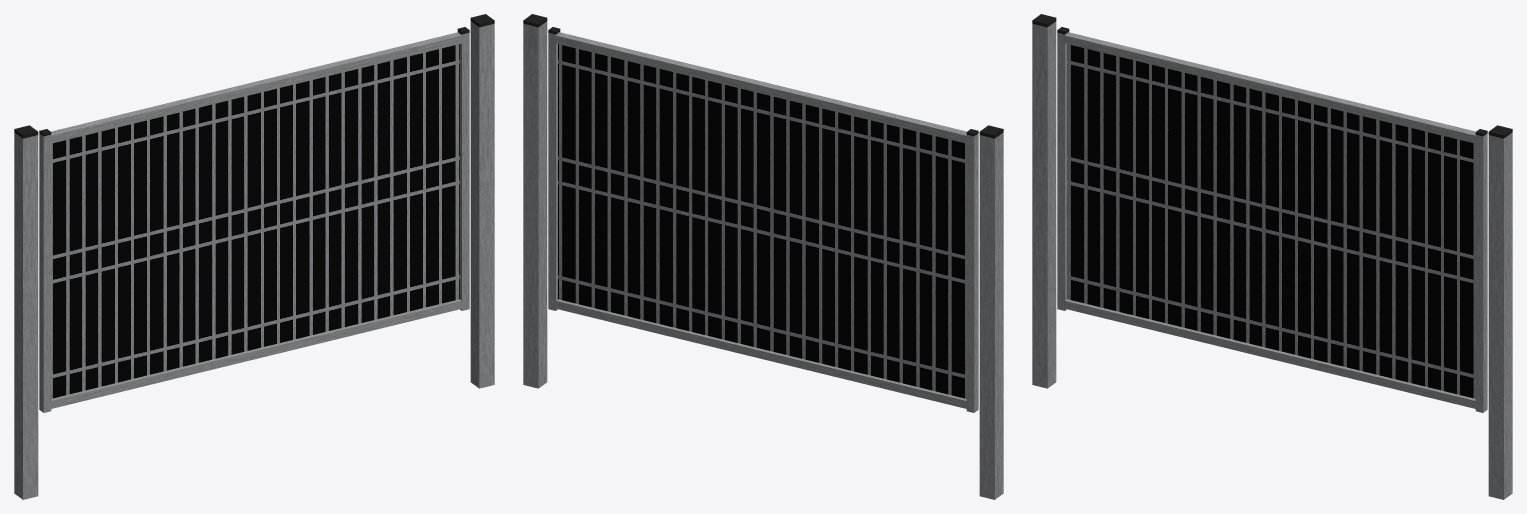
Rendered from fence-mesh-grey-gate-2m-cbj_LOD01.gltf.
The picture shows the model from 3 angles, left to right: view 1: azimuth 30°, elevation 25°; view 2: azimuth 150°, elevation 25°; view 3: azimuth 330°, elevation 25°; orthographic projection.
Parts seen in each view (by area): view 1: post.003; view 2: post.003; view 3: post.003.
Part boxes in pixels (x1=…): post.003: x1=14, y1=14, x2=494, y2=499; post.003: x1=523, y1=14, x2=1003, y2=499; post.003: x1=1032, y1=14, x2=1512, y2=499.
Size of the model in its own units: 2.17 by 1.6 by 0.07.
